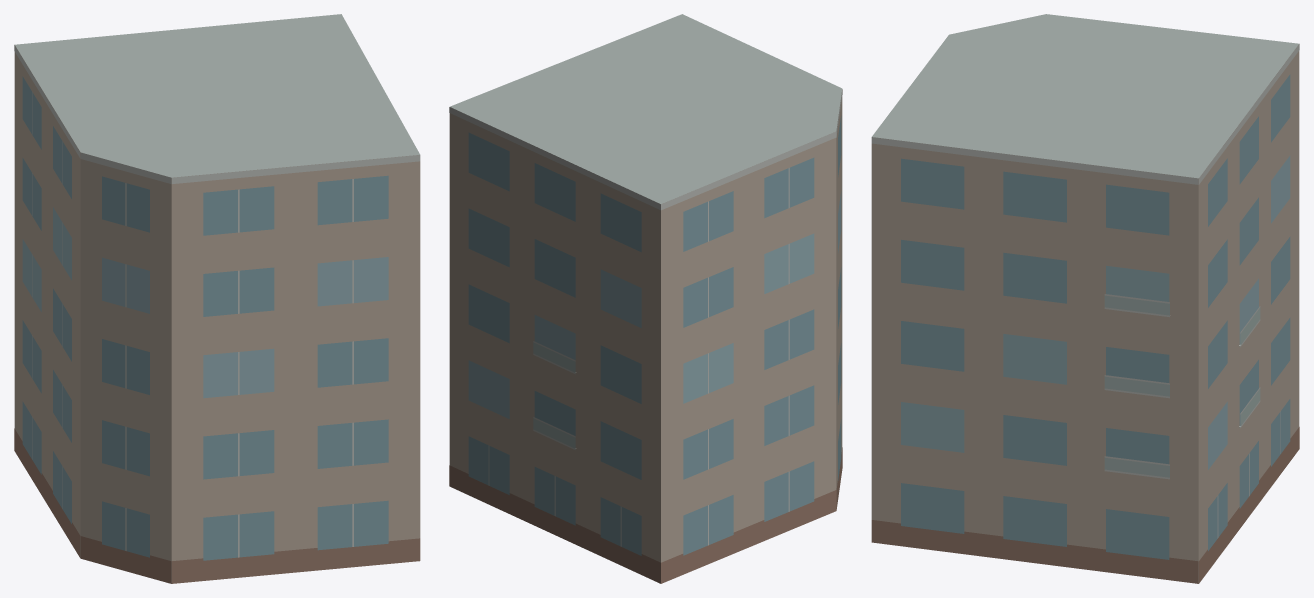
File: survey-upis-33016242.glb
3 renders of one model, left to right at view 1: azimuth 30°, elevation 25°; view 2: azimuth 150°, elevation 25°; view 3: azimuth 270°, elevation 25°, orthographic. The views are drawn at different scales.
Visible parts, largest first — view 1: survey-upis-33016242.tmp; view 2: survey-upis-33016242.tmp; view 3: survey-upis-33016242.tmp.
Part boxes in pixels (x1=…): survey-upis-33016242.tmp: x1=14, y1=14, x2=420, y2=583; survey-upis-33016242.tmp: x1=449, y1=14, x2=842, y2=583; survey-upis-33016242.tmp: x1=871, y1=14, x2=1299, y2=583.
Size of the model in its own units: 13.14 by 15.1 by 14.45.
